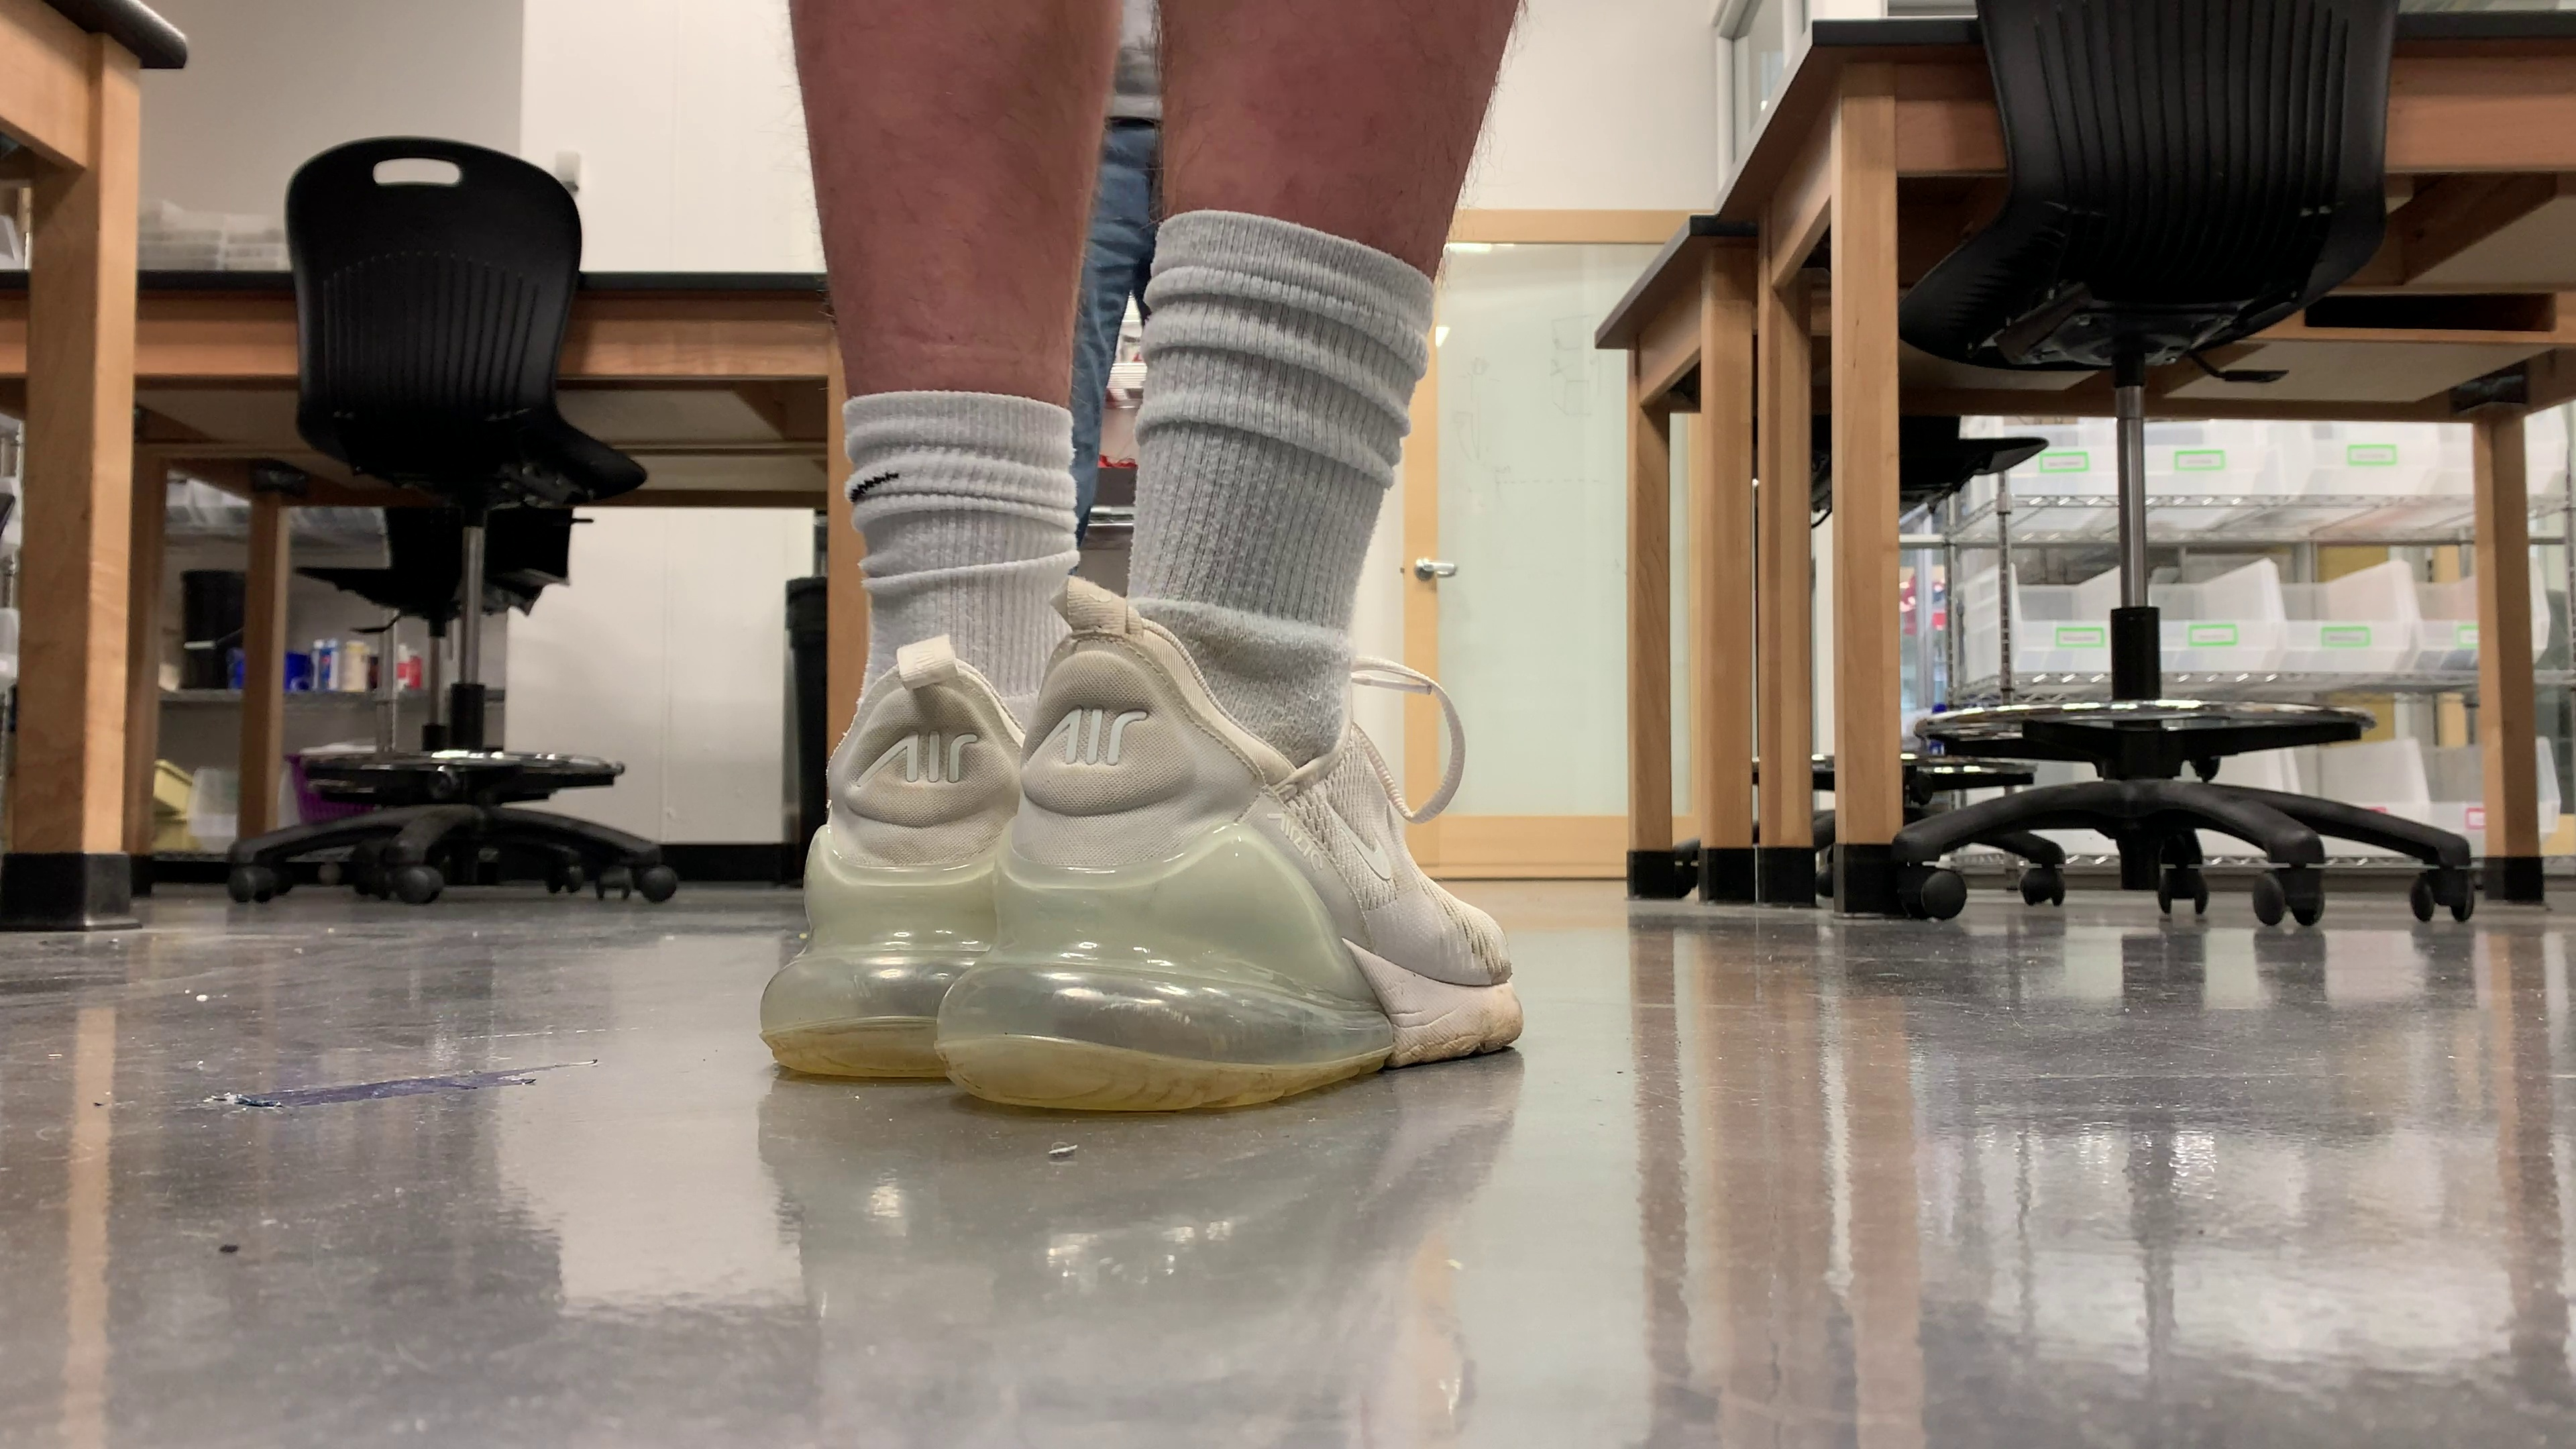shoe: (936, 616, 1522, 1111), (759, 672, 1069, 1079)
